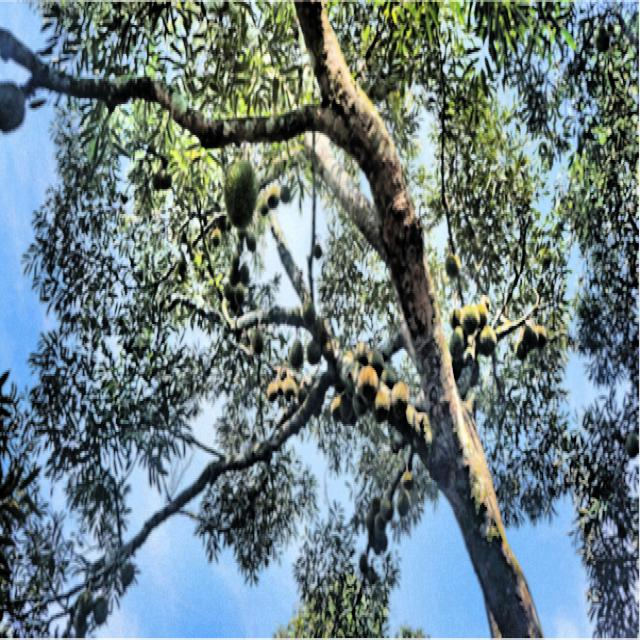arvore: (304, 57, 556, 640)
